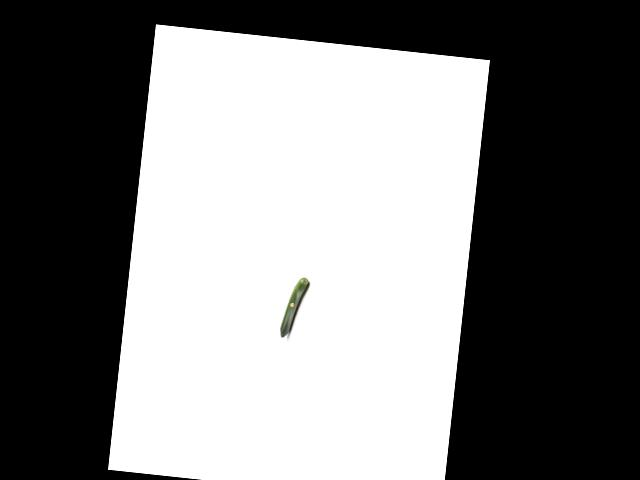cucumber: (279, 275, 309, 339)
